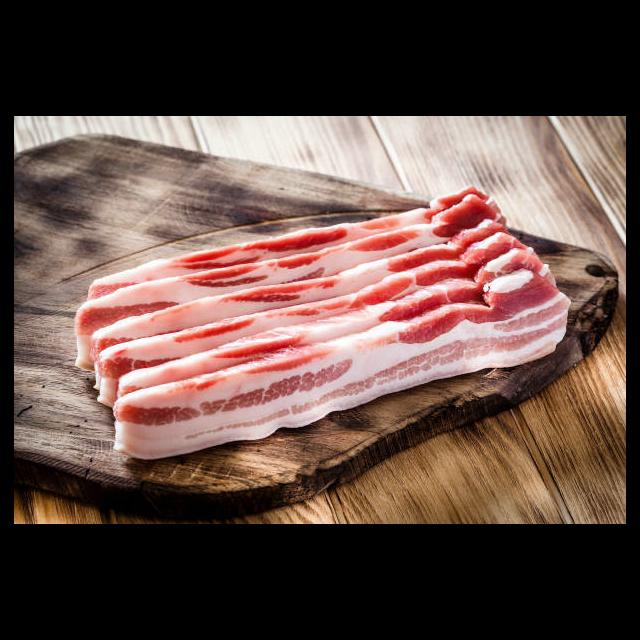pork: (116, 369, 326, 450), (406, 283, 568, 369)
